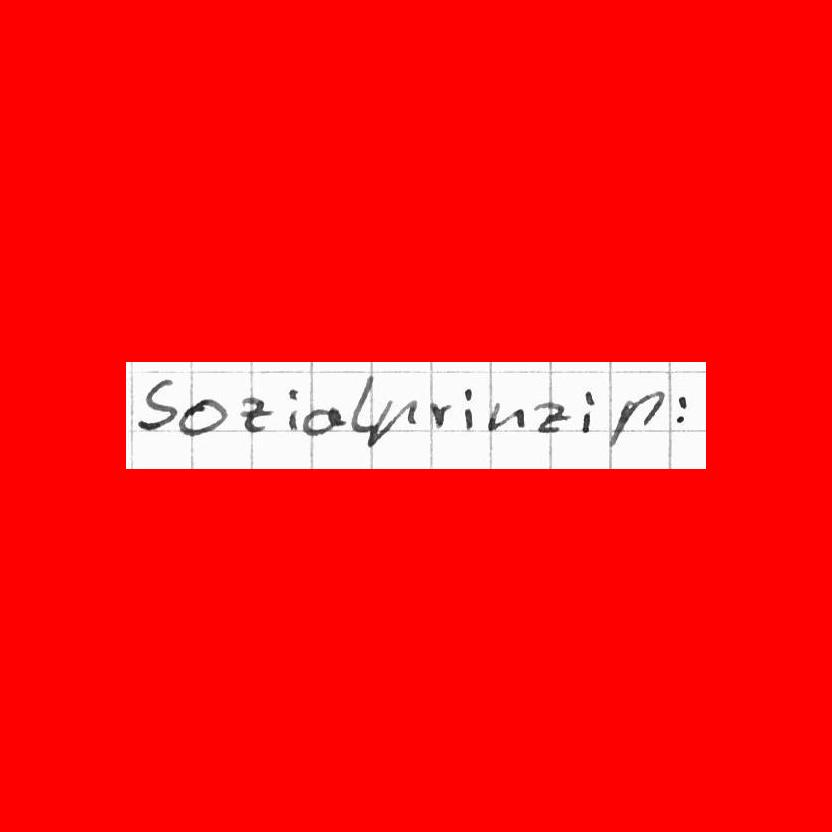Char: (607, 389, 665, 449), (366, 397, 419, 447), (135, 377, 179, 431), (179, 397, 227, 436), (300, 405, 346, 437), (350, 373, 374, 433), (238, 394, 273, 435), (532, 400, 573, 433), (484, 399, 526, 431), (428, 399, 455, 430), (580, 388, 596, 435), (461, 385, 476, 433), (286, 386, 300, 434), (673, 392, 687, 427)
